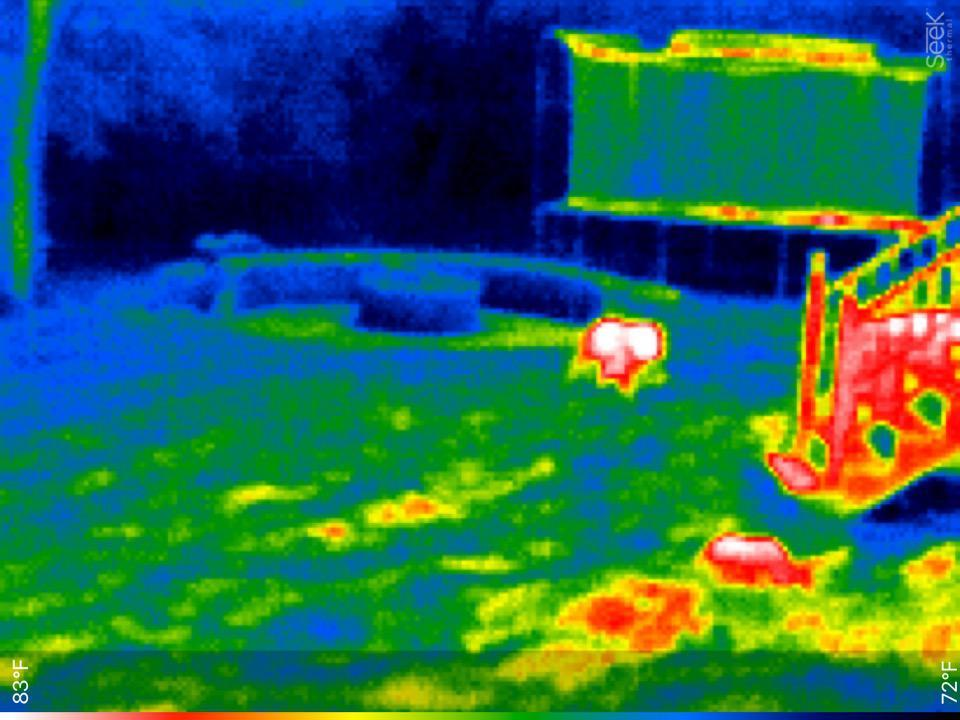dog: (569, 310, 672, 402)
